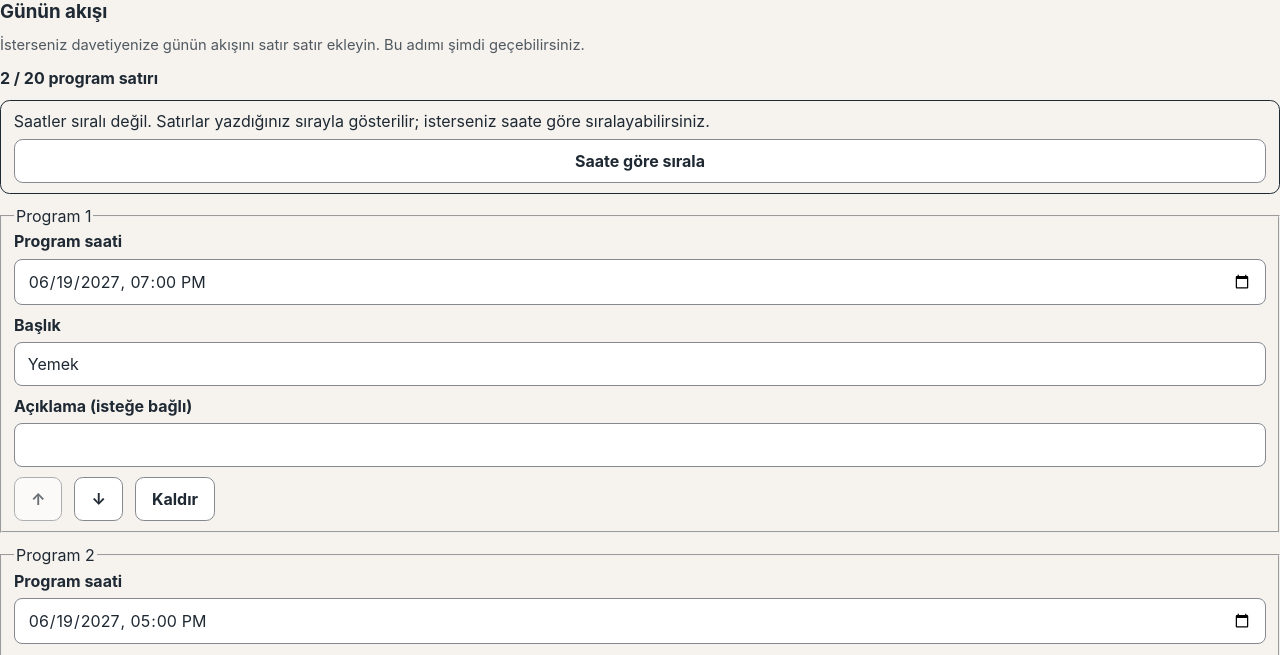
Test: ProgramListEditor › keeps the creator order, hints when times are out of order and sorts on request
This screenshot has width=1280, height=655.
Expected: the text "Saatler sıralı değil" is shown, [14,111,710,131]
Click the button "Saate göre sırala".
click(640, 161)  # box [14,139,1266,183]
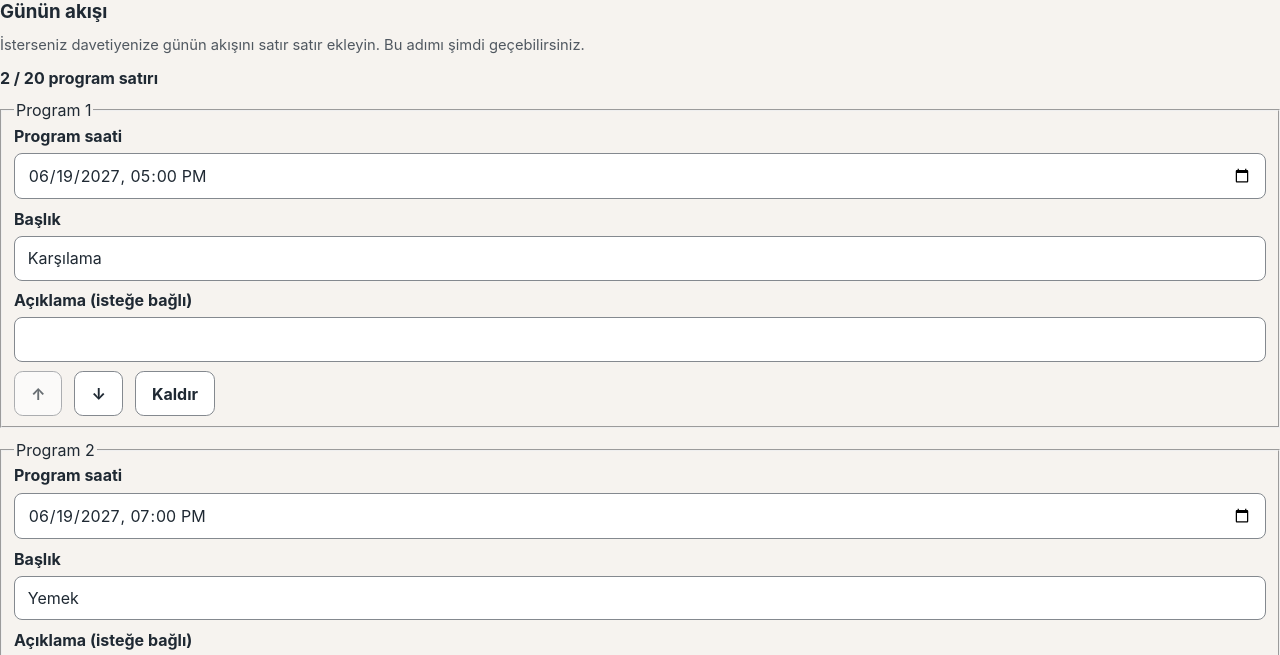
Now the text "Saatler sıralı değil" is gone
